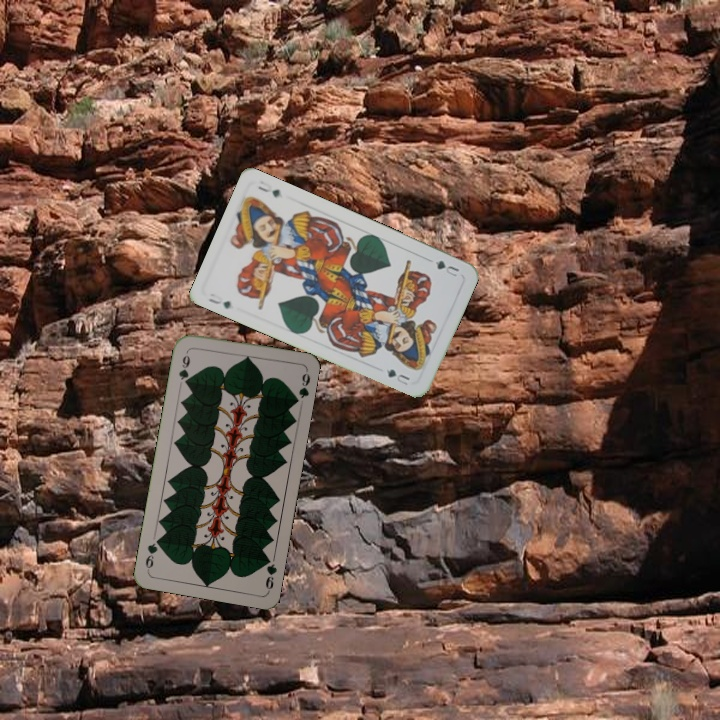G9: (261, 552, 279, 594), (175, 351, 193, 388)
GU: (431, 256, 462, 279), (204, 294, 233, 311)
